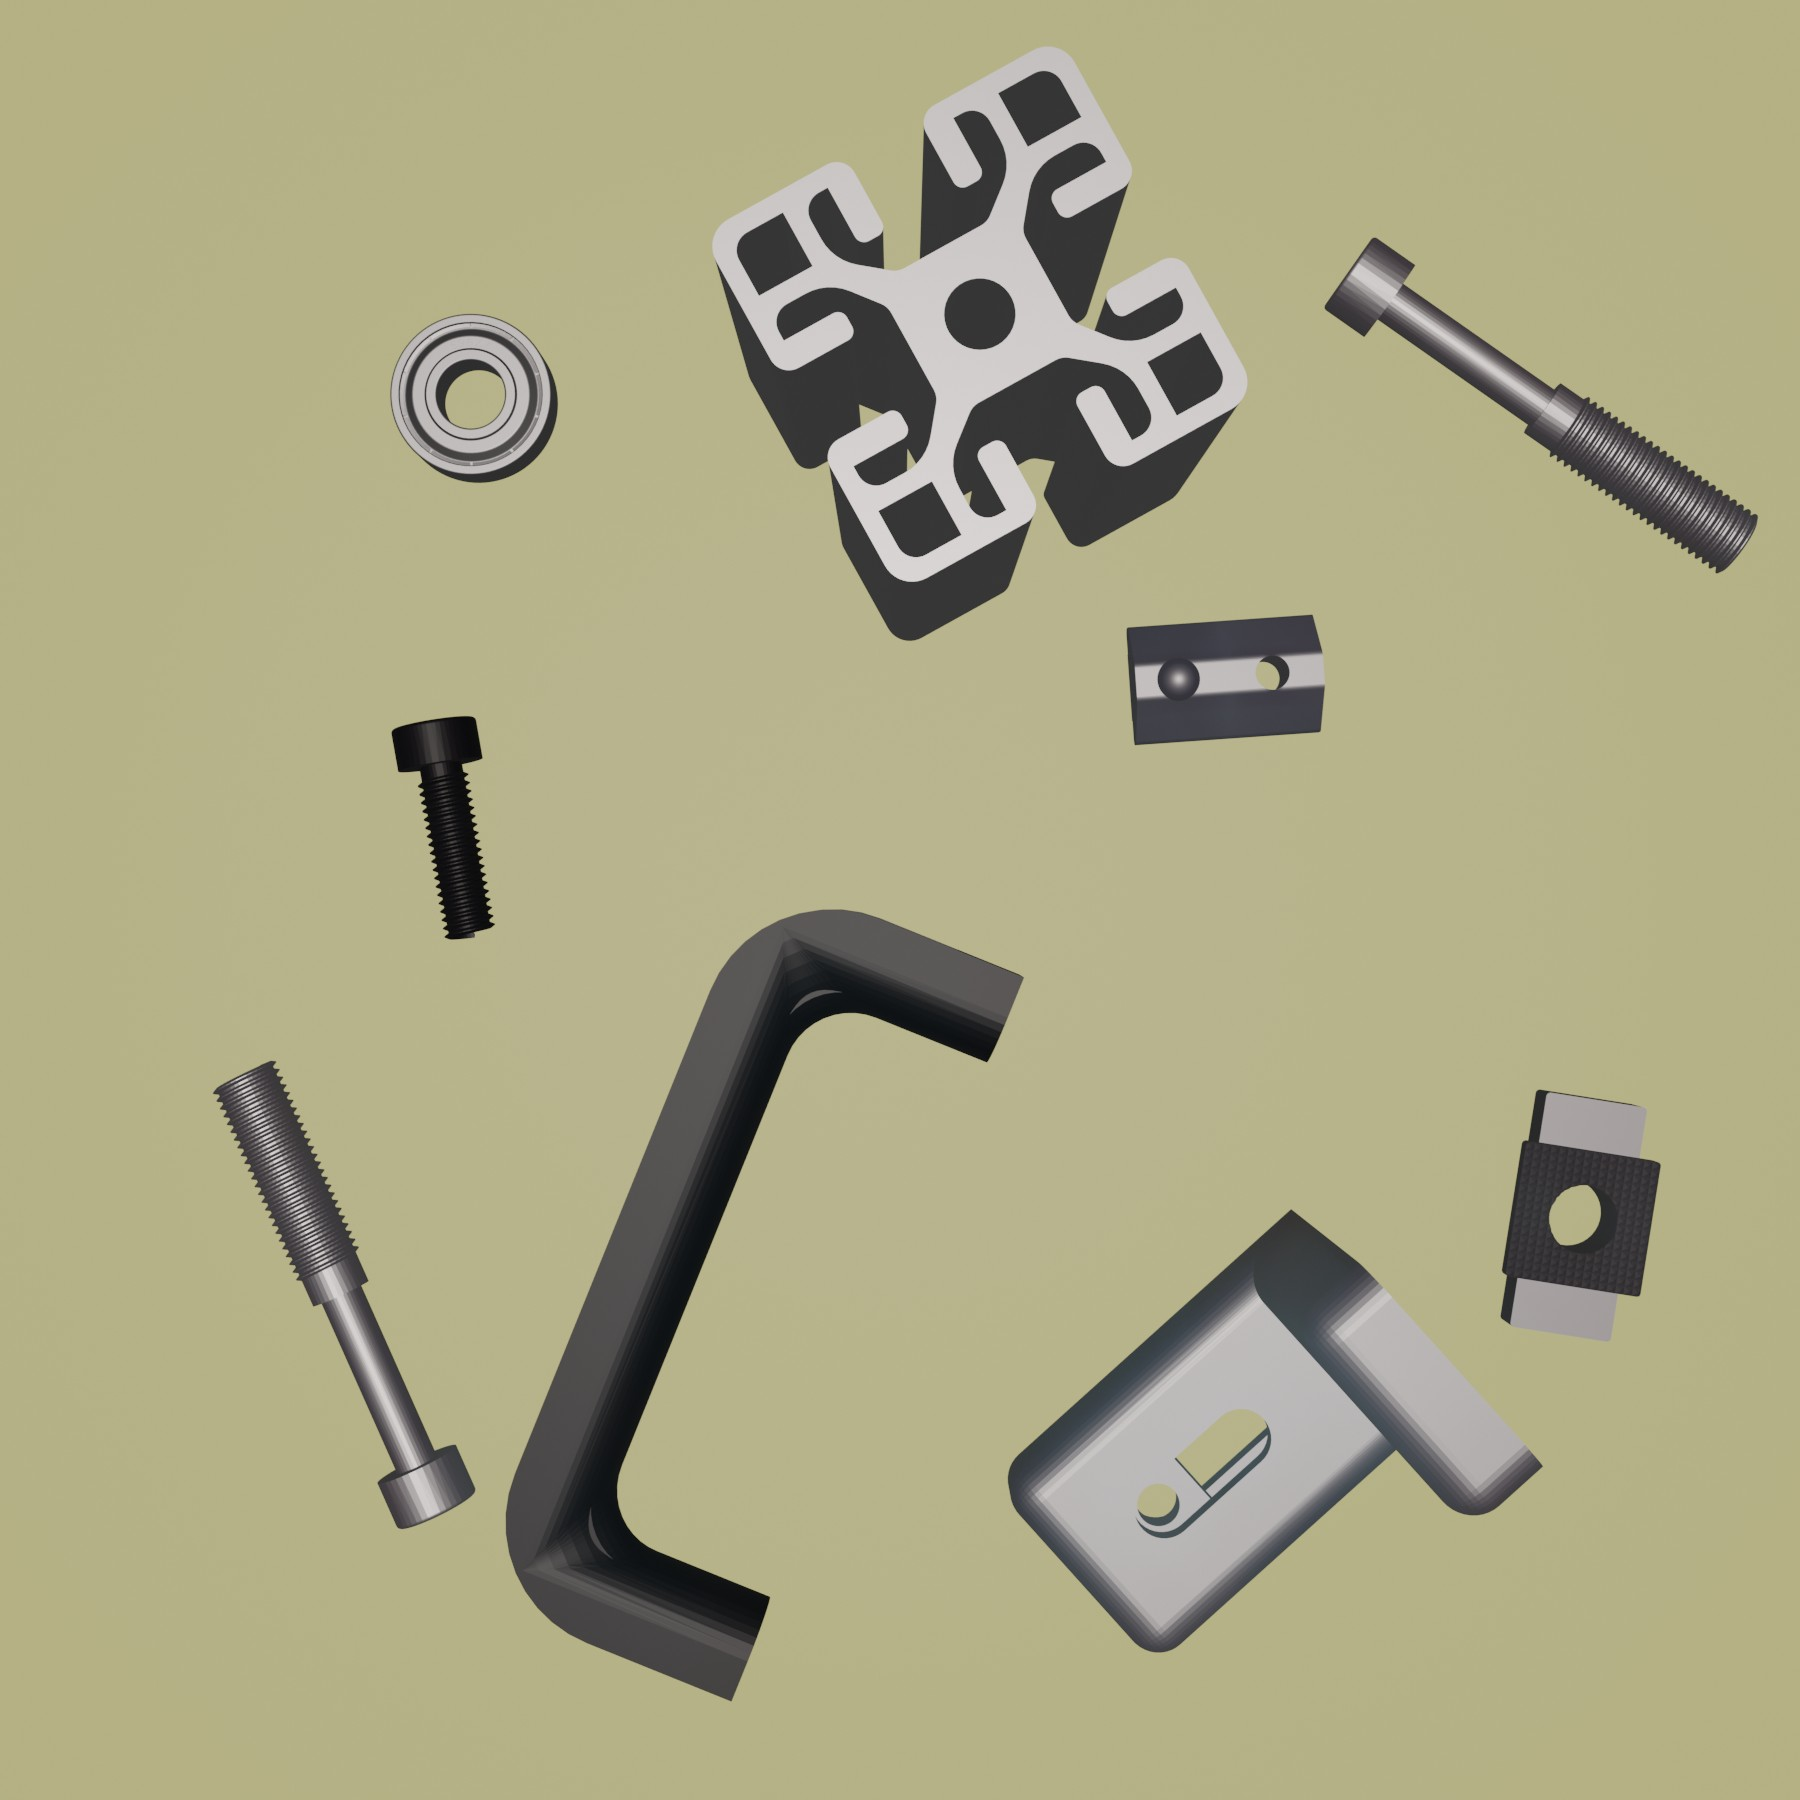Aluminium Extension: (709, 43, 1248, 641)
Ball Bearing: (386, 308, 559, 485)
Multiwinkel: (1005, 1203, 1546, 1653)
Pull Handle: (504, 905, 1025, 1704)
Shoulder Socket Head Cap Screw: (1319, 234, 1759, 574), (209, 1055, 478, 1531)
Socket Head Cap Screw: (389, 710, 496, 941)
T Nut Square: (1497, 1085, 1663, 1345)
T Spring Nut: (1124, 608, 1329, 747)
